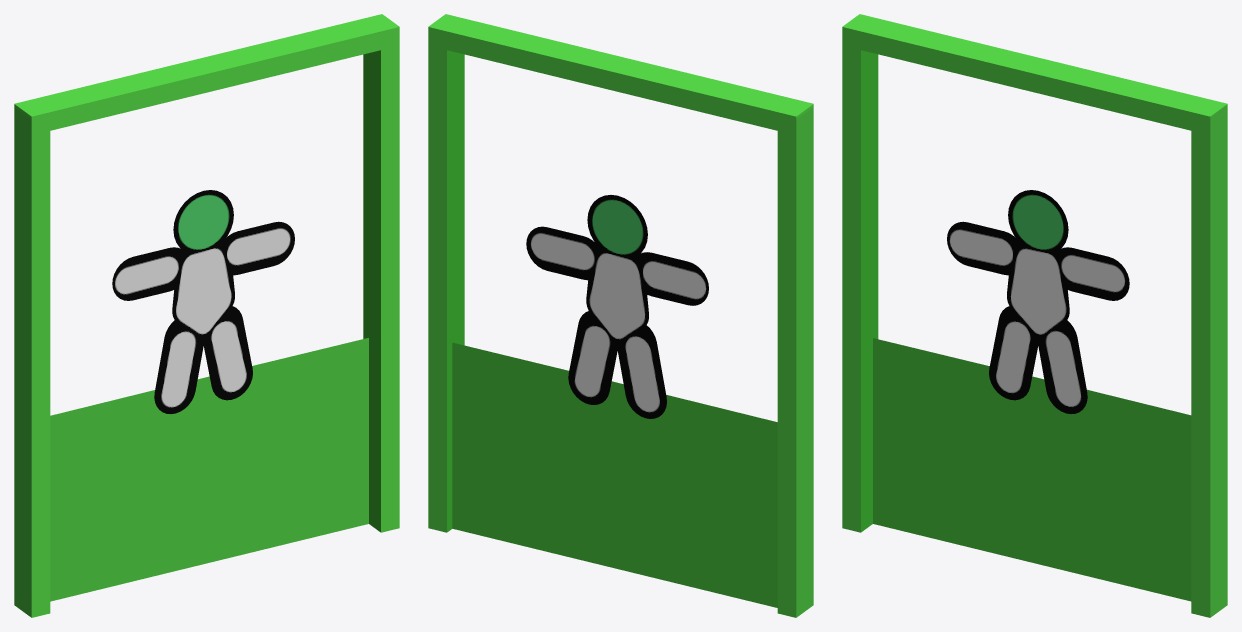
File: Silhouette_3d.FBX
3 views of the same model, side by side, from view 1: azimuth 30°, elevation 25°; view 2: azimuth 150°, elevation 25°; view 3: azimuth 330°, elevation 25° (orthographic).
Visible parts, largest first — view 1: Silhouette_3d_2, Silhouette_3d_3, Silhouette_3d_1; view 2: Silhouette_3d_2, Silhouette_3d_3, Silhouette_3d_1; view 3: Silhouette_3d_2, Silhouette_3d_3, Silhouette_3d_1.
Part boxes in pixels (x1,y1,x2,y2): Silhouette_3d_2: (50,338,368,601); Silhouette_3d_3: (14,14,399,617); Silhouette_3d_1: (112,190,294,413); Silhouette_3d_2: (452,342,777,607); Silhouette_3d_3: (428,14,813,617); Silhouette_3d_1: (526,195,708,418); Silhouette_3d_2: (873,338,1191,601); Silhouette_3d_3: (842,14,1227,617); Silhouette_3d_1: (947,190,1129,413).
Bounding box in the file's own units: 2.9 × 3.77 × 0.24.
